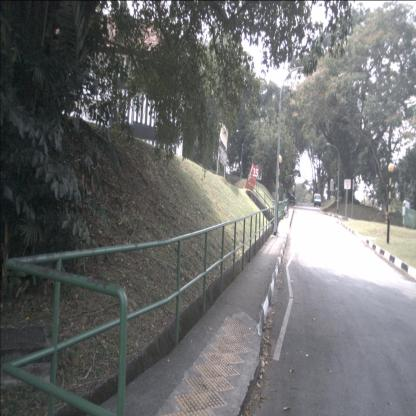vehicle-bicycle: (283, 198, 289, 219)
vehicle-car: (282, 192, 296, 201), (314, 193, 322, 207)
